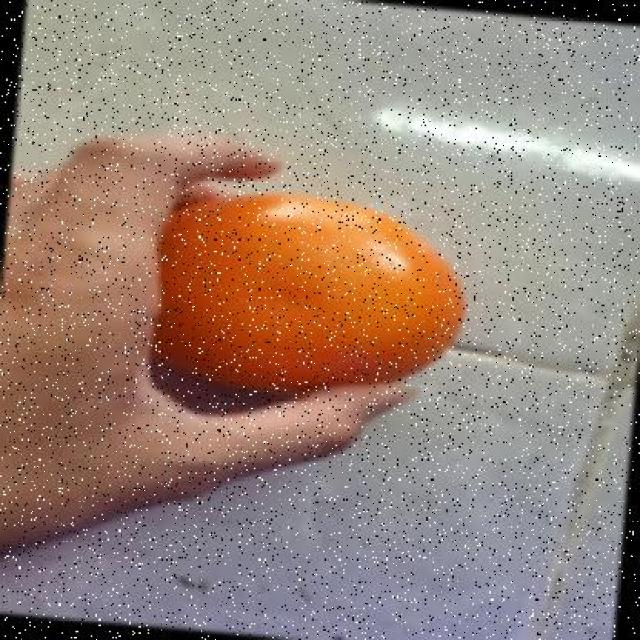Orange: (152, 190, 466, 393)
